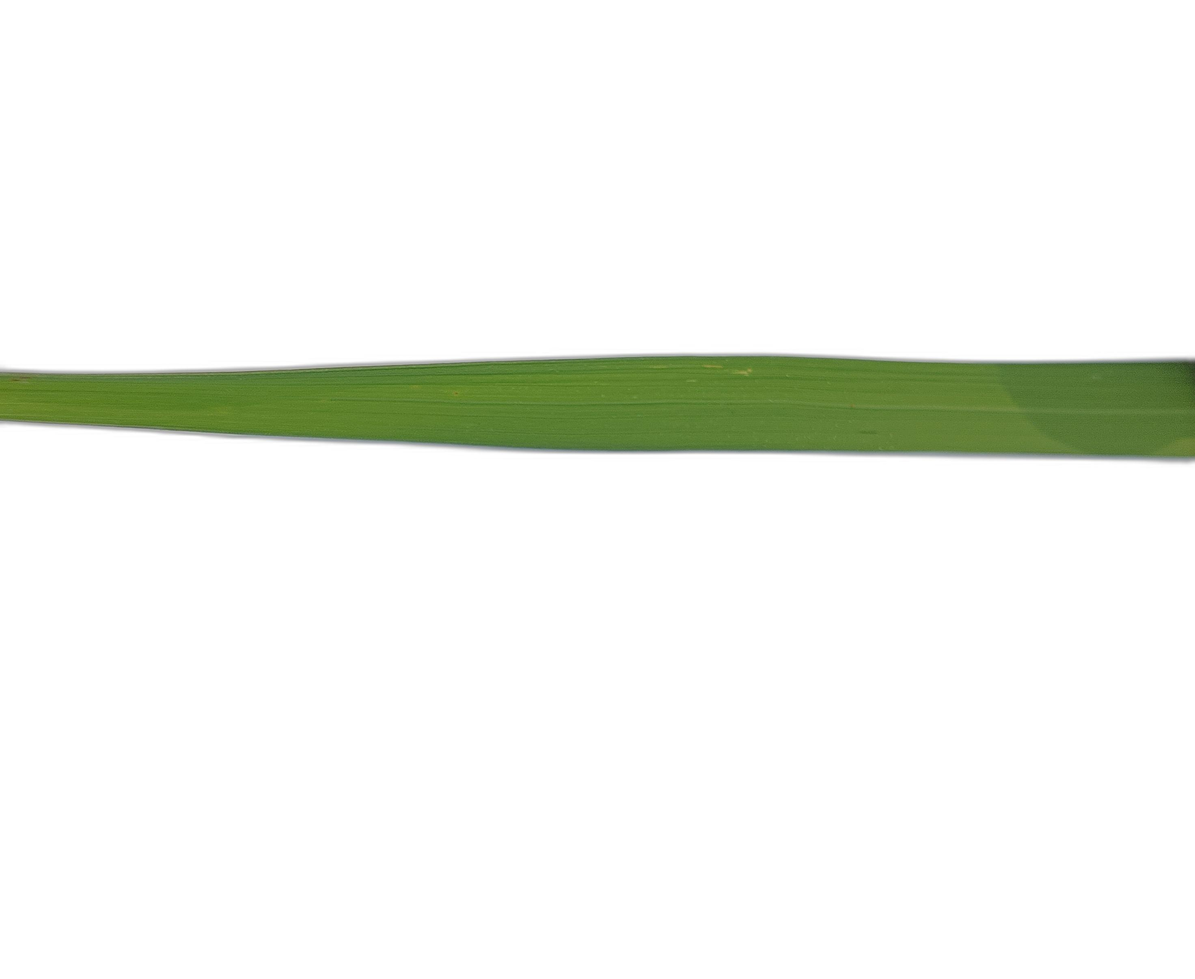Healthy: (0, 355, 1195, 457)
